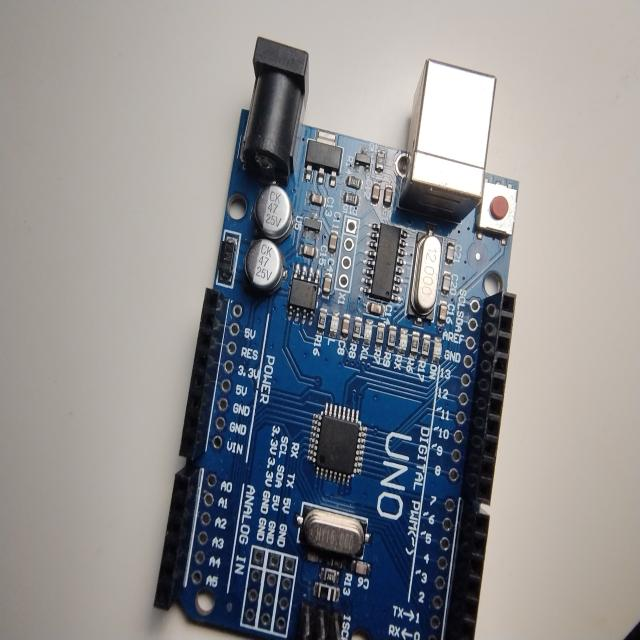arduino: (169, 28, 509, 640)
